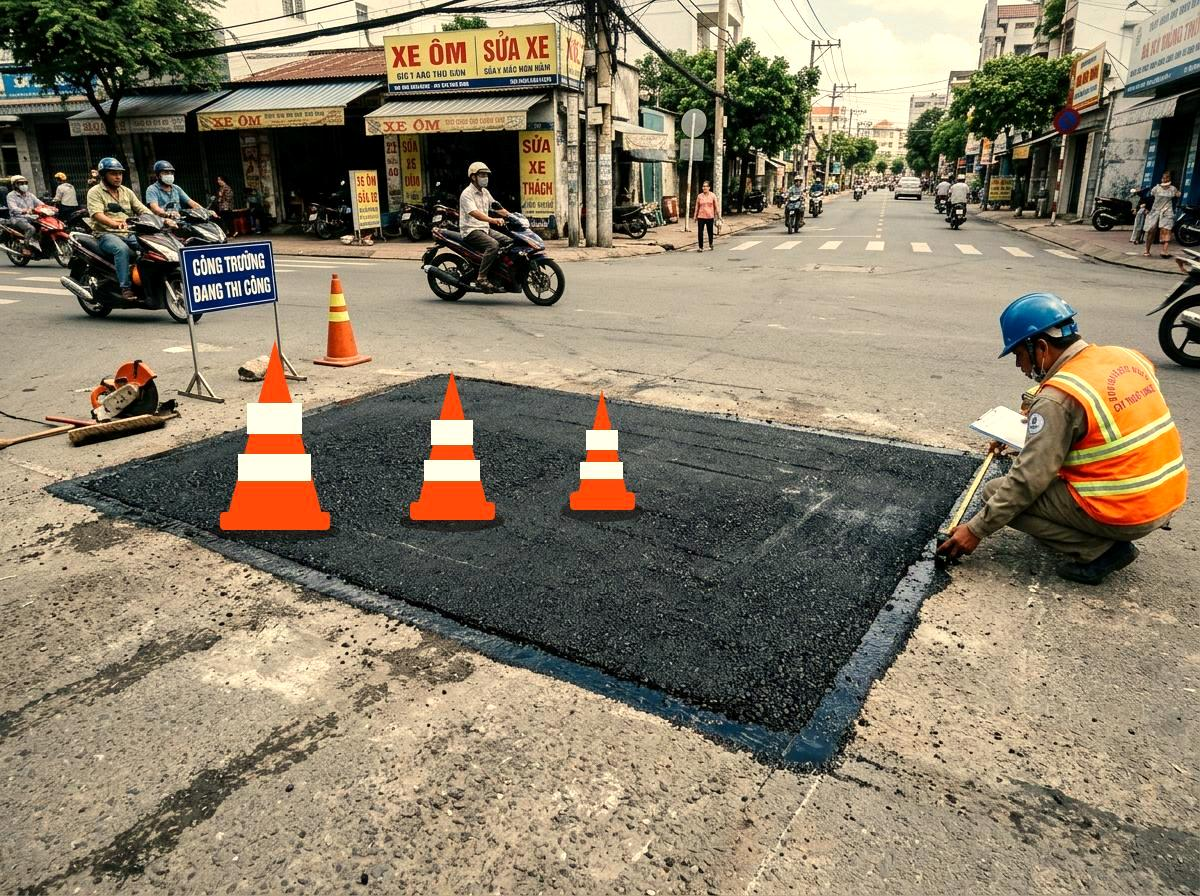ROAD_OBSTACLE: (215, 335, 335, 535), (405, 365, 500, 525), (565, 385, 640, 515)
